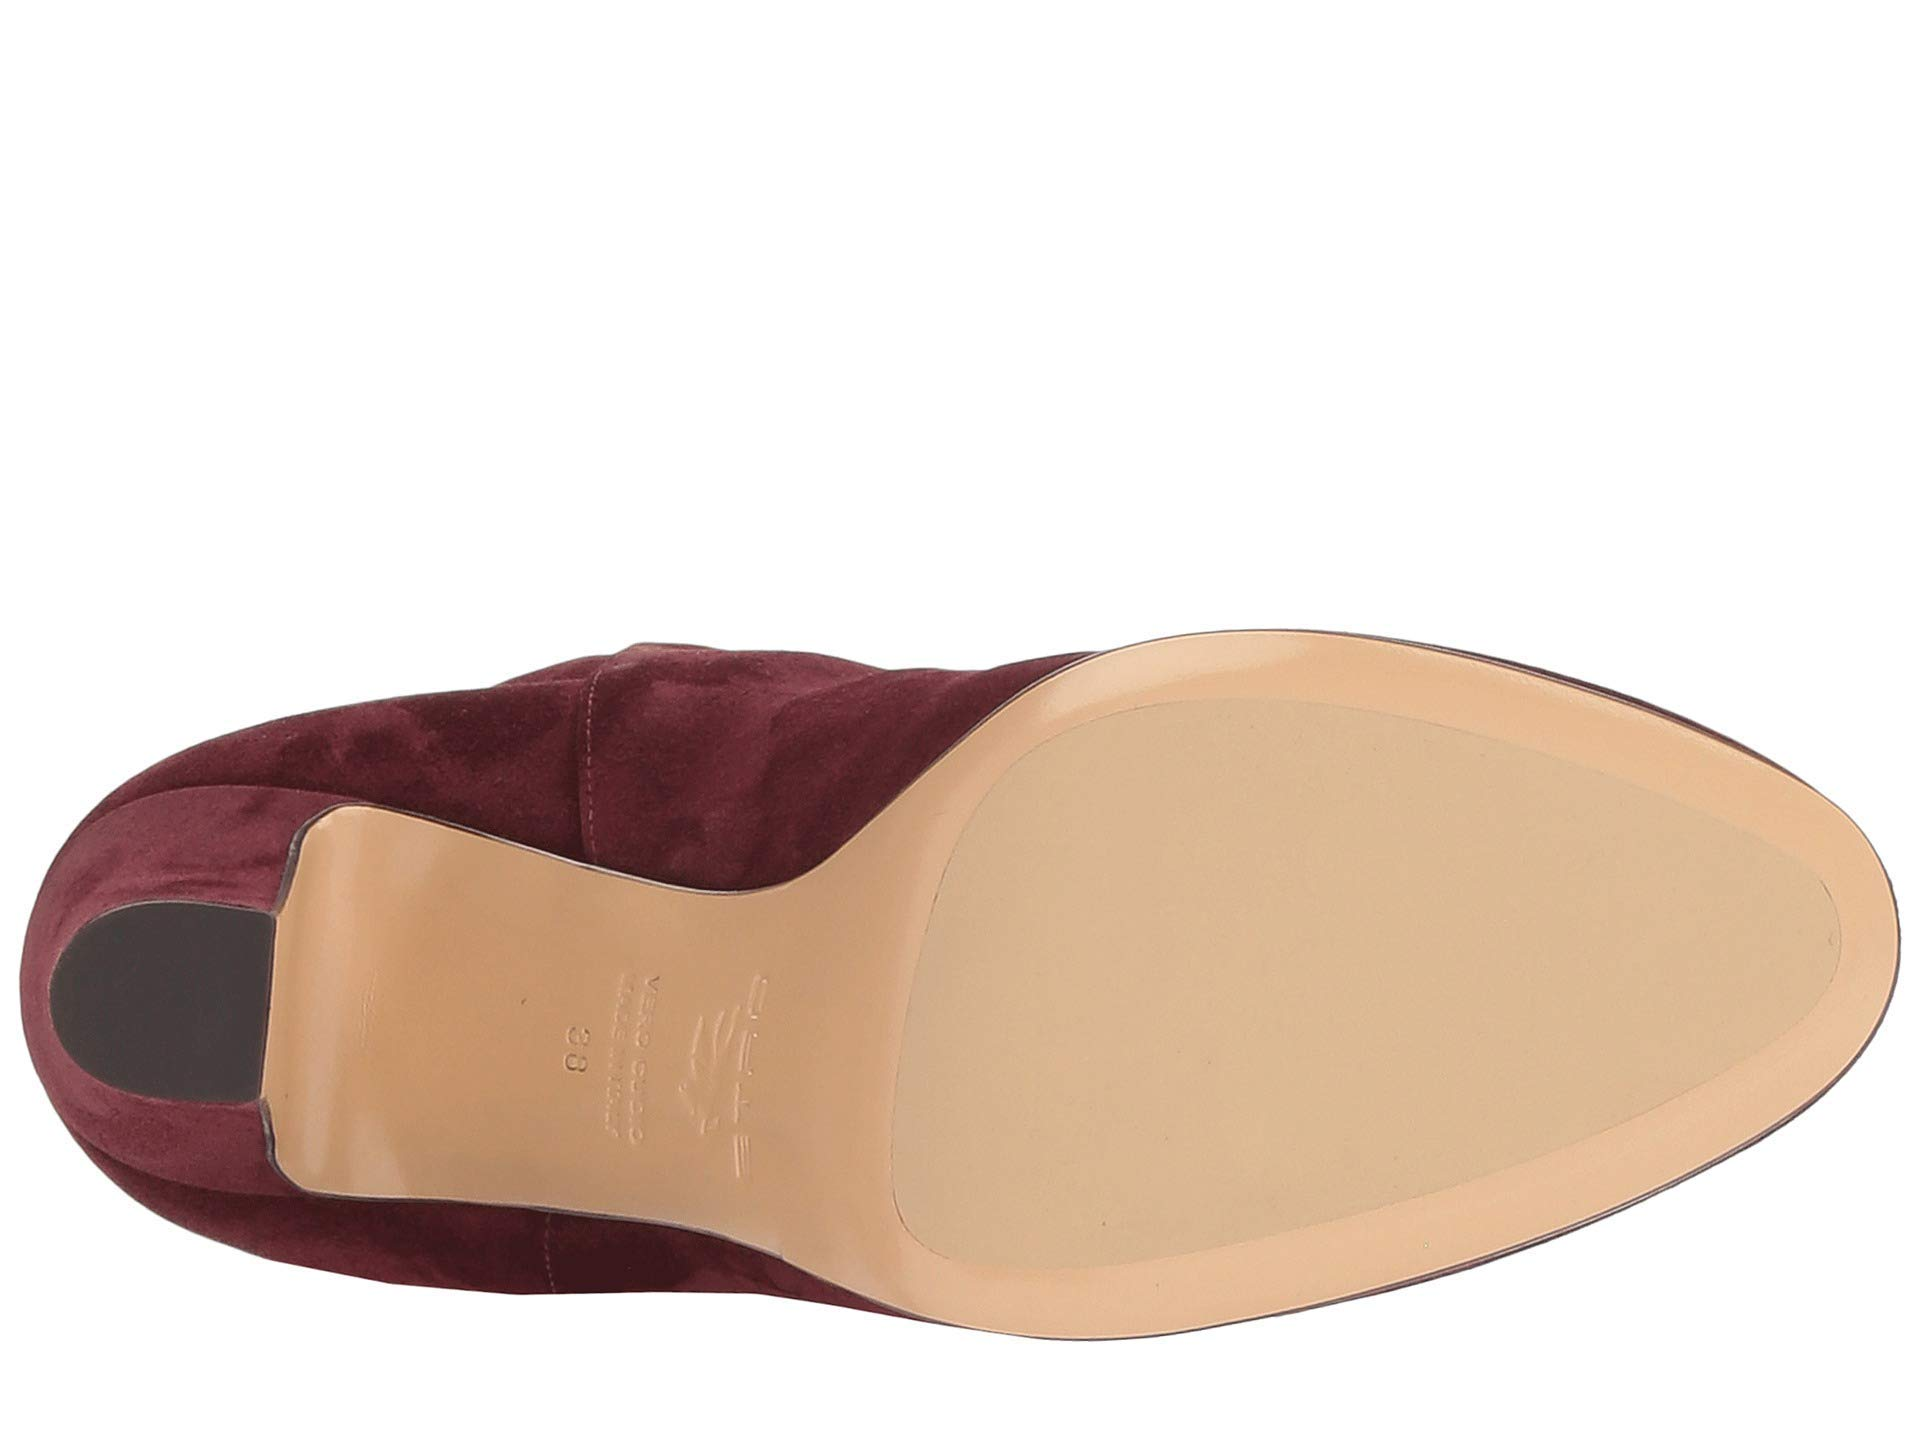exclude: (382, 590, 801, 1366)
line: (1243, 659, 1569, 841)
